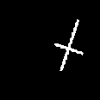single_crochet: (55, 20, 82, 70)
